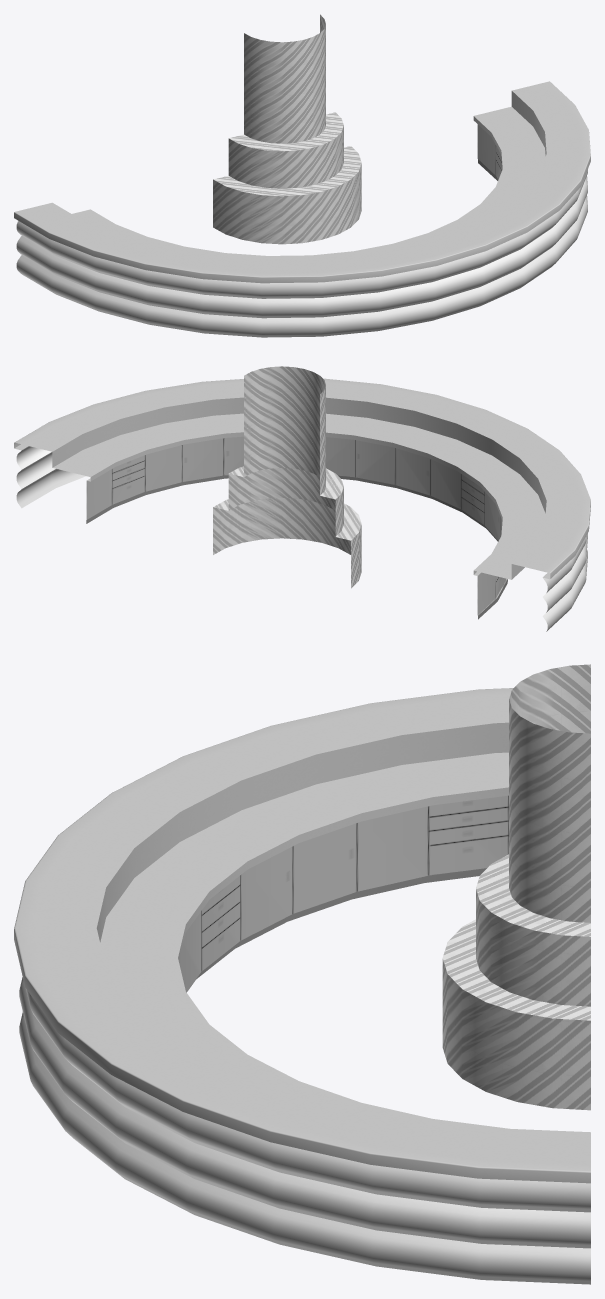
Rendered from Bar03_3.FBX.
3 renders of one model, top to bottom at view 1: azimuth 30°, elevation 25°; view 2: azimuth 150°, elevation 25°; view 3: azimuth 270°, elevation 25°, orthographic. The views are drawn at different scales.
Parts seen in each view (by area): view 1: Bar03_3, Bar03Rack; view 2: Bar03_3, Bar03Rack; view 3: Bar03_3, Bar03Rack.
Boxes of the visible parts, box(x1,y1,x2,y2) form: Bar03_3: box(14, 81, 590, 337); Bar03Rack: box(213, 14, 361, 244); Bar03_3: box(14, 378, 590, 631); Bar03Rack: box(213, 366, 361, 588); Bar03_3: box(14, 688, 590, 1284); Bar03Rack: box(442, 664, 590, 1110).
Bounding box in the file's own units: 1050 × 350 × 525.
